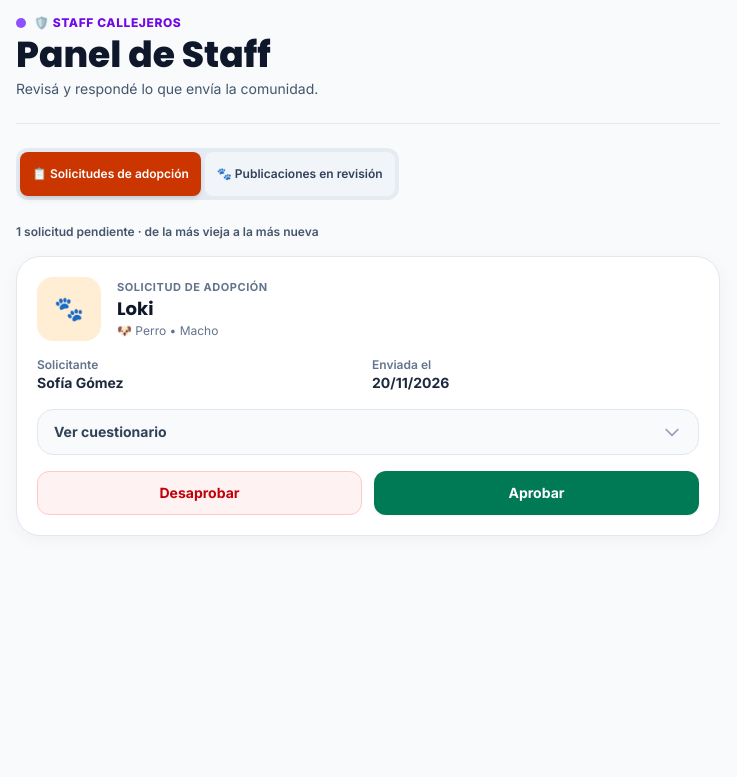
Test: StaffPanel › muestra el cuestionario completo en el desplegable
Click the heading "Ver cuestionario" at (110, 432), box [54,422,682,442]
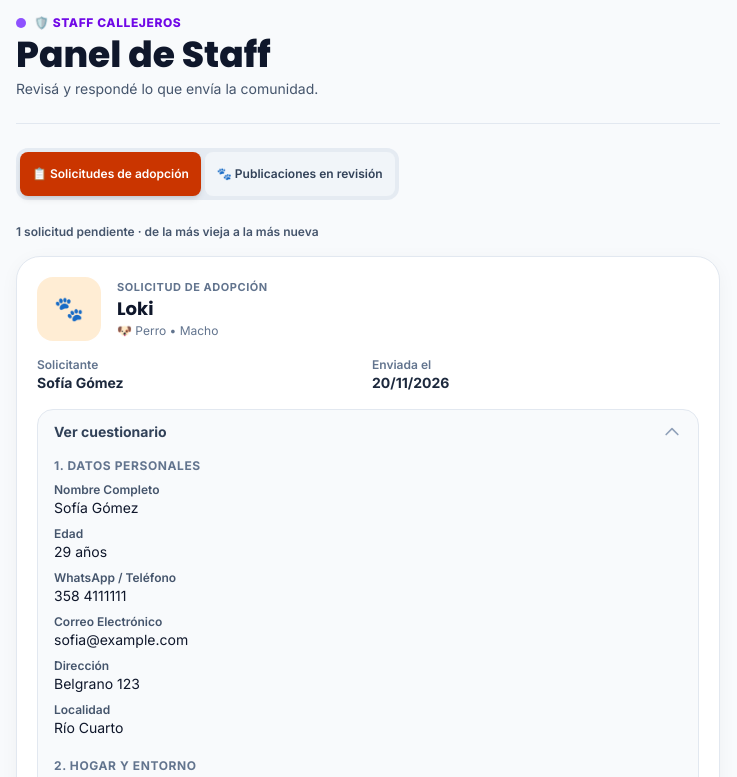
Now the heading "1. Datos Personales" is shown, box [54,458,201,473]
Now the heading "2. Hogar y Entorno" is shown, box [54,758,197,773]
Now the text "sofia@example.com" is shown, box [54,631,188,648]
